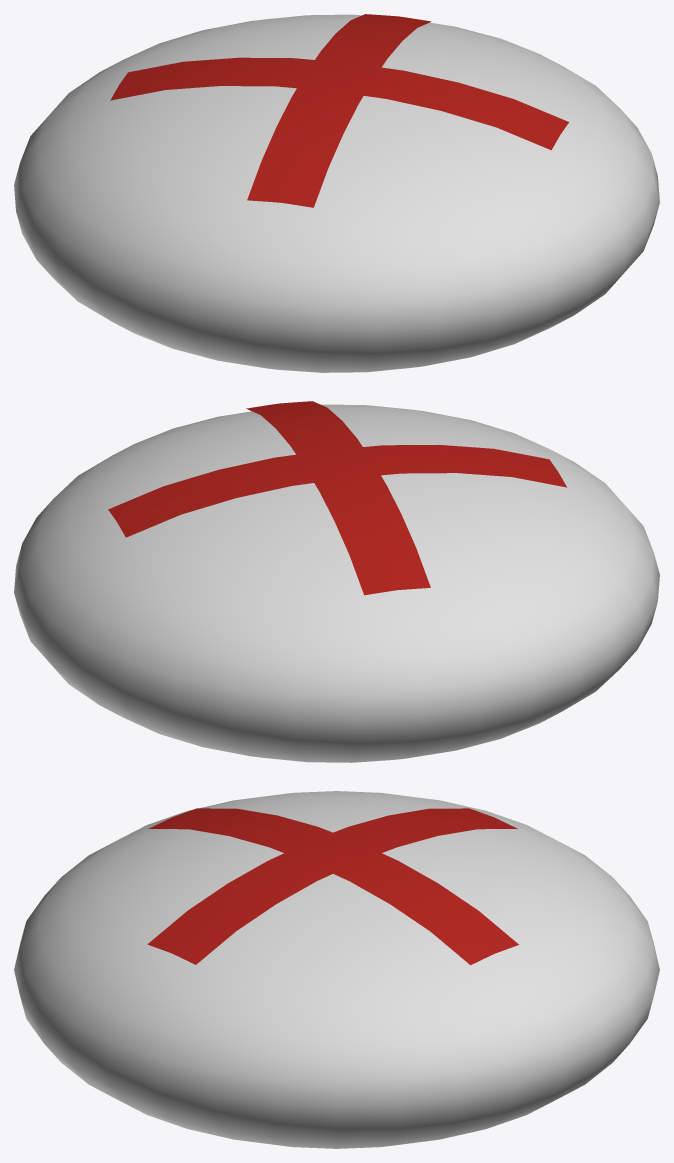
The model's file is FakeStone_W2.fbx.
3 renders of one model, top to bottom at view 1: azimuth 30°, elevation 25°; view 2: azimuth 150°, elevation 25°; view 3: azimuth 270°, elevation 25°, orthographic.
Visible parts, largest first — view 1: Black.003; view 2: Black.003; view 3: Black.003.
Boxes of the visible parts, x1,y1,x2,y2 form: Black.003: [14, 14, 659, 372]; Black.003: [14, 401, 659, 762]; Black.003: [14, 791, 659, 1148].
Bounding box in the file's own units: 2 × 0.8049 × 2.
